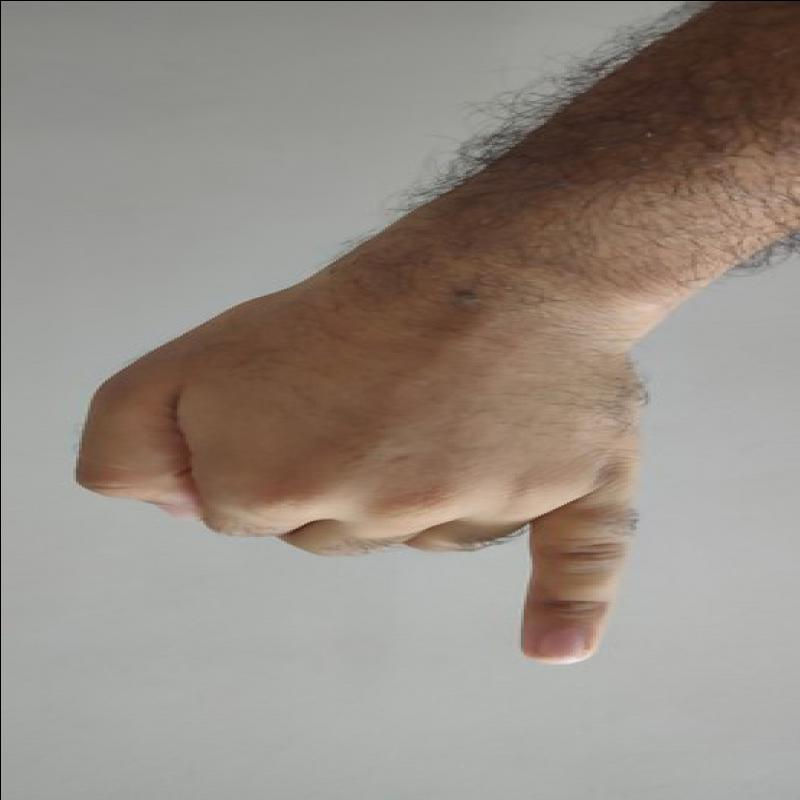Kartharee Mukham: (50, 260, 667, 665)
